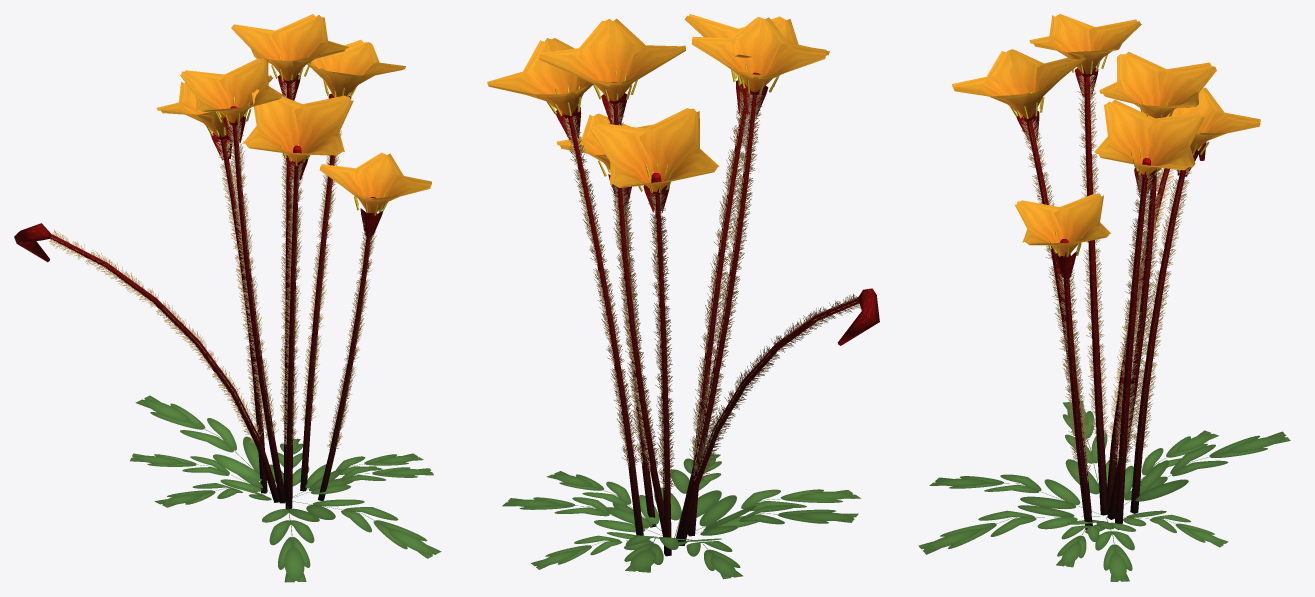
Rendered from arctic_poppy_v03_LOD1.glb.
3 views of the same model, side by side, from view 1: azimuth 30°, elevation 25°; view 2: azimuth 150°, elevation 25°; view 3: azimuth 270°, elevation 25° (orthographic). The views are drawn at different scales.
Visible parts, largest first — view 1: arctic_poppy_v03_LOD1; view 2: arctic_poppy_v03_LOD1; view 3: arctic_poppy_v03_LOD1.
Part boxes in pixels (x1,y1,x2,y2): arctic_poppy_v03_LOD1: (14, 14, 441, 582); arctic_poppy_v03_LOD1: (487, 14, 879, 579); arctic_poppy_v03_LOD1: (918, 14, 1290, 581).
Bounding box in the file's own units: 0.2189 × 0.256 × 0.1974.
5 materials, 5 textured.
